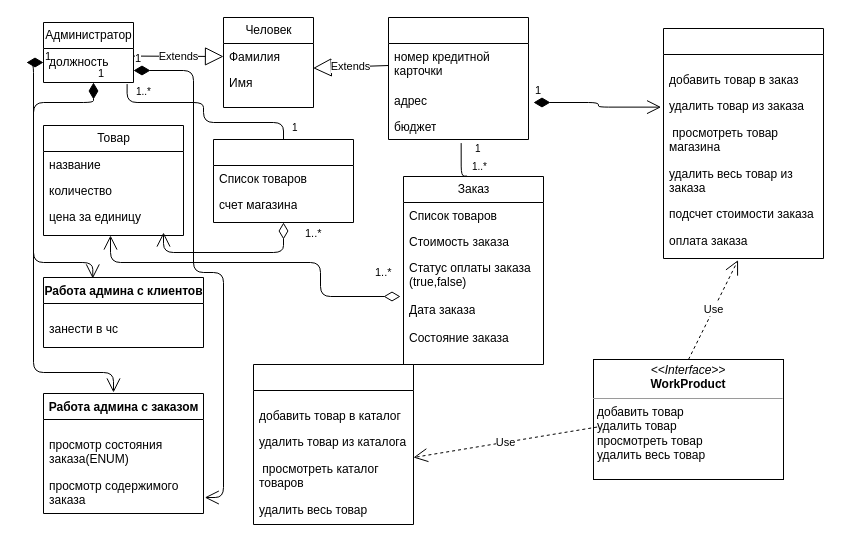
Some shapes in this 841 by 545 pixel diagram are drawn without their labels. Here are the shapes that lost their labels. From the top down, the box of each, then its label:
(388, 16, 528, 140): Клиент
(662, 28, 824, 258): Действия Клиента
(212, 138, 354, 222): Интернет-магазин
(252, 364, 414, 524): Работа админа с товаром
